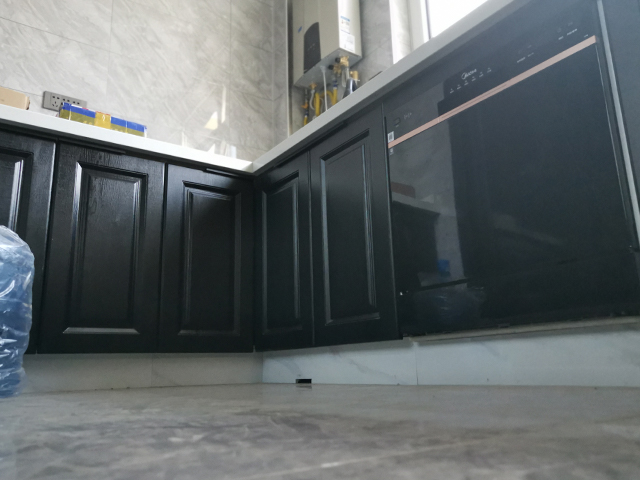cabinet: (256, 1, 640, 382), (43, 126, 255, 381)
